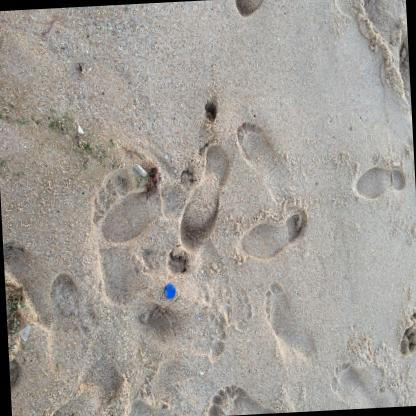Plastic: (18, 324, 29, 341), (163, 283, 174, 299)
